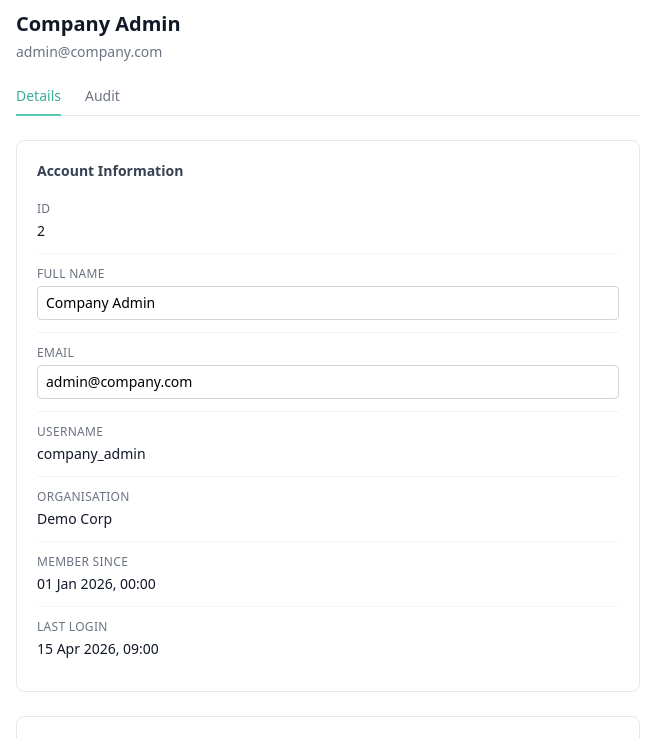
Test: T-SETTINGS-USERS-D06: audit tab shows AuditTable with events › shows empty state when no audit events exist
The width and height of the screenshot is (657, 738).
Click the button with test id "tab-audit". click: (102, 101)
box: [85,86,120,116]
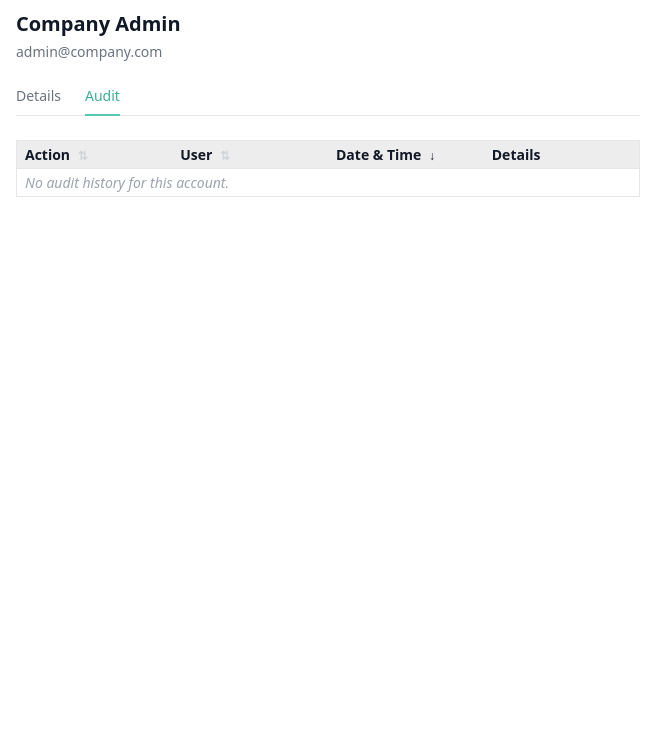
Check: the text "No audit history for this account." is shown, box [16,169,640,196]
